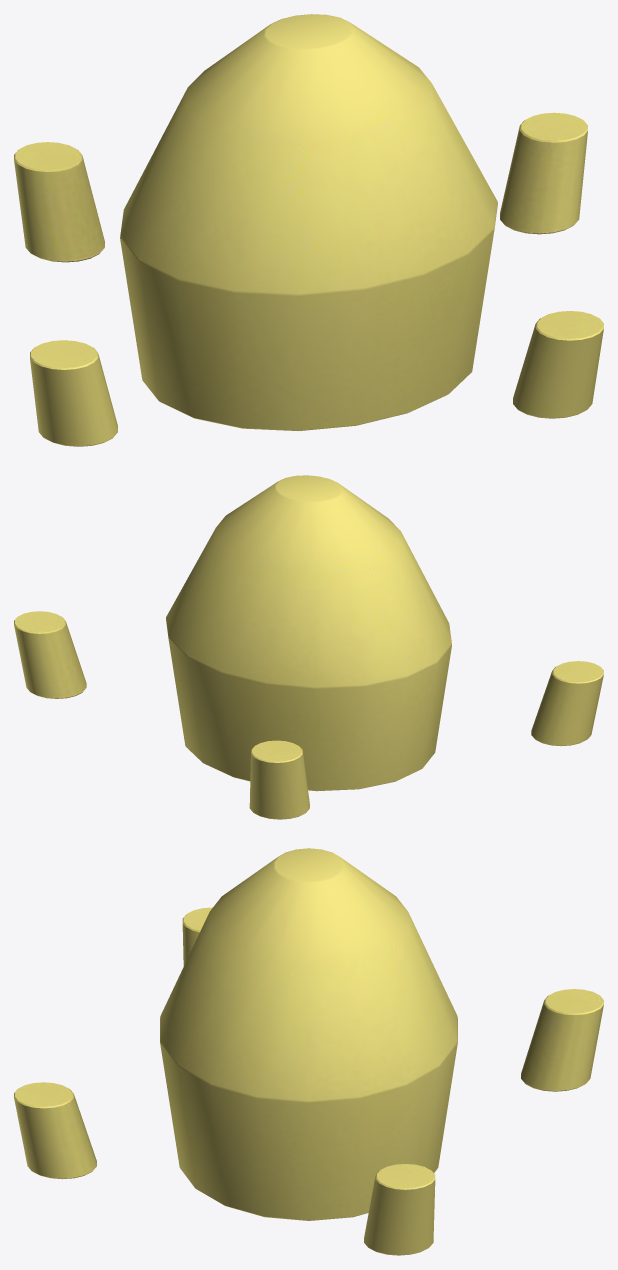
The model's file is IT_sulfur_lump.glb.
3 views of the same model, one above another, from view 1: azimuth 30°, elevation 25°; view 2: azimuth 150°, elevation 25°; view 3: azimuth 270°, elevation 25° (orthographic). The views are drawn at different scales.
Visible parts, largest first — view 1: IT_sulfur_lump; view 2: IT_sulfur_lump; view 3: IT_sulfur_lump.
Boxes of the visible parts, x1,y1,x2,y2 form: IT_sulfur_lump: [14, 14, 603, 446]; IT_sulfur_lump: [14, 475, 603, 819]; IT_sulfur_lump: [14, 848, 603, 1255].
Size of the model in its own units: 0.661 by 0.32 by 0.5849.
Materials: 1 (1 with a texture image).
